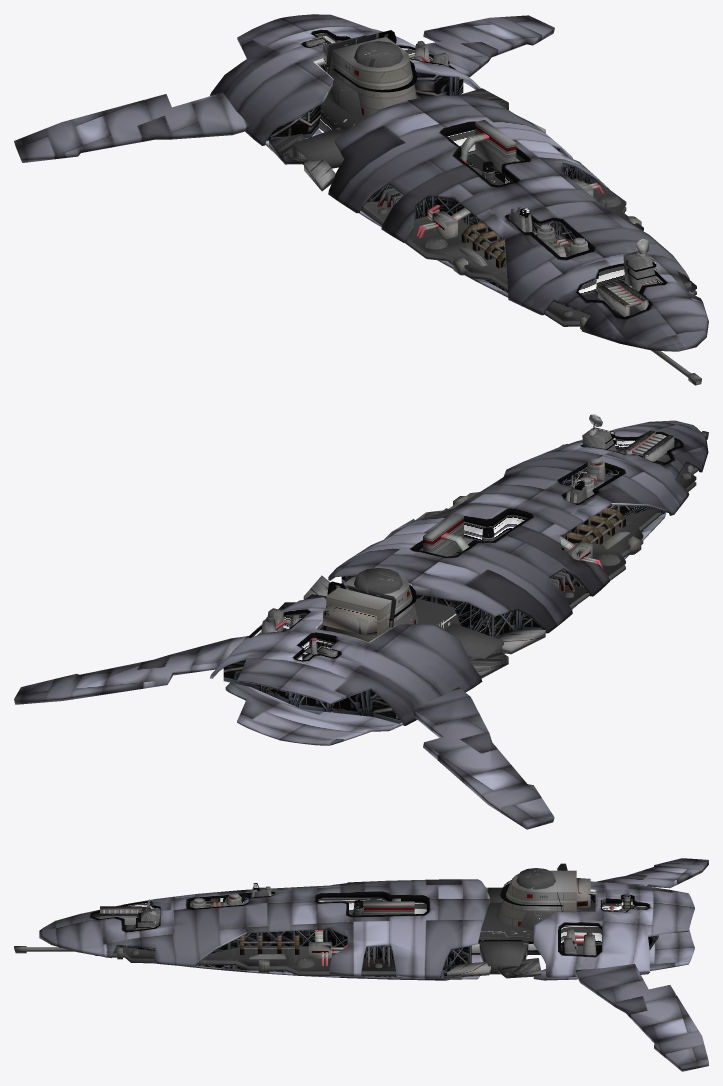
Rendered from thales.obj.
3 renders of one model, top to bottom at view 1: azimuth 30°, elevation 25°; view 2: azimuth 150°, elevation 25°; view 3: azimuth 270°, elevation 25°, orthographic. The views are drawn at different scales.
Size of the model in its own units: 4.01 by 0.8178 by 5.61.
1 material, 1 textured.
